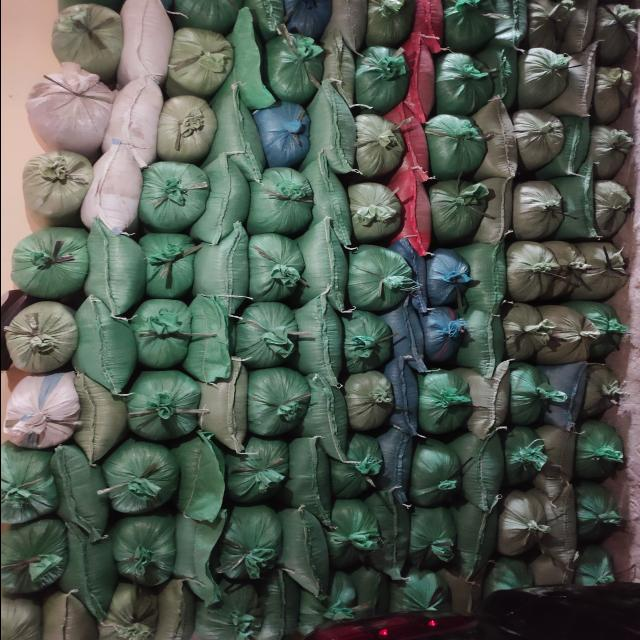Bistay sand: (32, 76, 106, 149), (6, 518, 68, 597), (2, 444, 64, 523), (7, 374, 69, 453), (14, 298, 76, 377), (53, 4, 119, 76), (14, 229, 80, 300), (107, 445, 173, 513), (145, 161, 207, 229), (155, 94, 215, 164), (27, 150, 81, 226), (133, 376, 197, 440), (167, 31, 233, 93), (118, 1, 168, 82), (106, 79, 156, 160), (88, 150, 138, 231), (84, 228, 134, 309), (78, 305, 128, 386), (222, 505, 275, 581), (107, 520, 173, 580), (246, 369, 306, 435), (237, 302, 297, 368), (242, 236, 302, 302), (252, 173, 312, 239), (76, 382, 124, 463), (57, 449, 105, 530), (201, 369, 245, 455), (192, 585, 258, 640), (133, 303, 190, 365), (95, 584, 158, 640), (307, 295, 343, 393), (288, 436, 328, 524), (142, 233, 196, 298), (255, 101, 309, 166), (263, 37, 317, 102), (314, 376, 352, 465), (313, 88, 354, 170), (389, 572, 453, 623), (330, 499, 378, 566), (280, 512, 322, 588), (249, 571, 295, 640), (67, 534, 109, 609), (508, 242, 562, 300), (233, 446, 286, 504), (329, 434, 376, 499), (355, 248, 405, 309), (347, 185, 397, 246), (353, 114, 403, 175), (355, 48, 405, 109), (404, 506, 454, 567), (412, 447, 462, 507), (412, 376, 462, 436), (419, 307, 469, 367), (426, 244, 476, 304), (431, 183, 481, 243), (426, 113, 476, 173), (438, 52, 488, 112), (400, 40, 436, 122), (496, 492, 543, 553), (510, 366, 557, 427), (177, 513, 211, 597), (183, 441, 217, 525), (189, 297, 223, 381), (200, 230, 234, 314), (206, 158, 240, 242), (210, 93, 244, 177), (498, 431, 545, 491), (513, 185, 566, 237), (511, 113, 564, 165), (515, 51, 568, 103), (313, 168, 349, 244), (310, 232, 346, 308), (345, 375, 391, 433), (341, 313, 387, 371), (544, 304, 587, 366), (360, 1, 415, 49), (472, 367, 509, 437), (466, 440, 503, 510), (451, 512, 488, 582), (547, 361, 585, 429), (440, 1, 492, 50), (579, 431, 625, 485), (570, 486, 616, 540), (398, 102, 429, 182), (399, 178, 430, 258), (563, 52, 599, 120), (503, 304, 545, 362), (479, 104, 510, 182), (387, 365, 421, 435), (379, 433, 413, 503), (377, 507, 411, 577), (384, 294, 415, 368), (482, 174, 514, 244), (474, 244, 506, 314), (339, 569, 381, 622), (474, 308, 506, 374), (237, 11, 259, 105), (289, 590, 329, 640), (408, 1, 448, 51), (402, 240, 429, 314), (487, 48, 521, 104), (550, 481, 572, 566), (46, 602, 94, 640), (562, 1, 596, 53), (597, 7, 631, 59), (595, 65, 629, 117), (593, 125, 627, 177), (596, 182, 630, 234), (590, 244, 624, 296), (589, 307, 623, 359), (583, 368, 617, 420), (524, 1, 560, 49), (556, 240, 586, 297), (566, 178, 596, 235), (558, 117, 588, 174), (574, 546, 614, 588), (173, 1, 235, 28), (338, 1, 370, 53), (323, 54, 355, 106), (240, 118, 266, 181), (1, 597, 39, 640), (290, 1, 332, 39), (543, 430, 575, 477), (494, 2, 528, 46), (486, 563, 532, 595), (161, 585, 187, 640), (253, 1, 290, 39), (452, 576, 484, 619), (535, 558, 569, 589)
